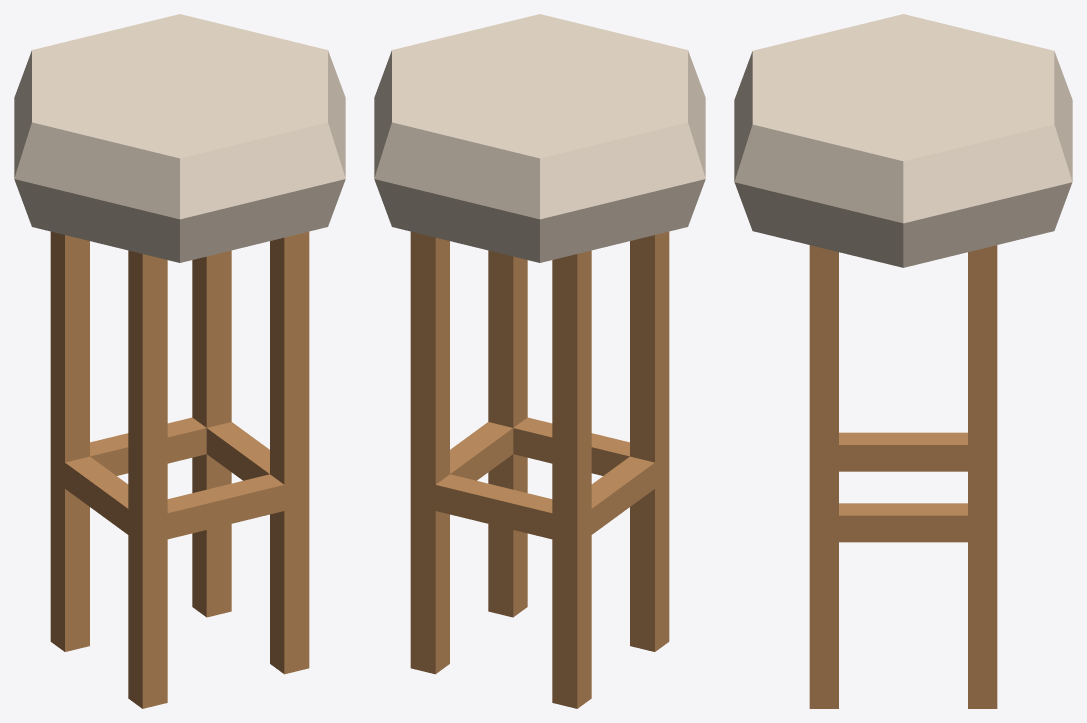
The model's file is kitStoolBar.glb.
3 renders of one model, left to right at view 1: azimuth 30°, elevation 25°; view 2: azimuth 150°, elevation 25°; view 3: azimuth 270°, elevation 25°, orthographic.
Visible parts, largest first — view 1: kitStoolBar_wood, kitStoolBar_fabric; view 2: kitStoolBar_wood, kitStoolBar_fabric; view 3: kitStoolBar_fabric, kitStoolBar_wood.
Boxes of the visible parts, bbox=[...] form: kitStoolBar_wood: bbox=[50, 231, 309, 708]; kitStoolBar_fabric: bbox=[14, 14, 345, 262]; kitStoolBar_wood: bbox=[410, 231, 669, 708]; kitStoolBar_fabric: bbox=[374, 14, 705, 262]; kitStoolBar_fabric: bbox=[734, 14, 1072, 267]; kitStoolBar_wood: bbox=[809, 245, 997, 708].
Bounding box in the file's own units: 0.5309 × 0.87 × 0.4598.
